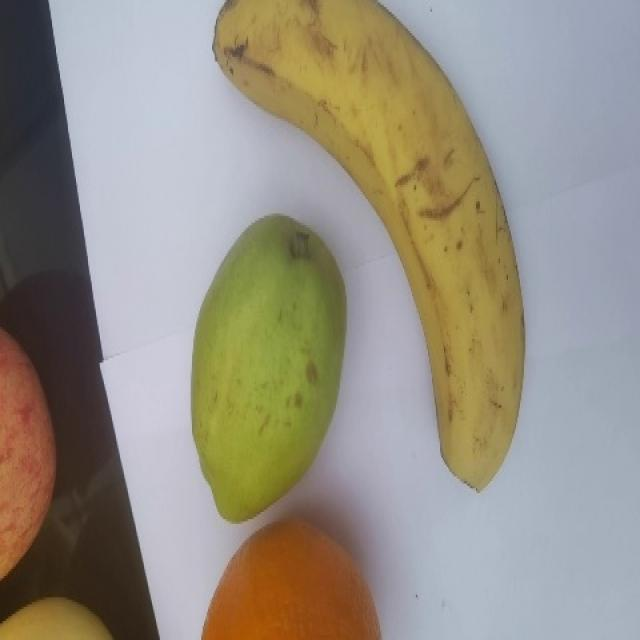Apple: (0, 325, 57, 582)
Banana: (210, 0, 526, 492)
Orange: (200, 518, 381, 639)
